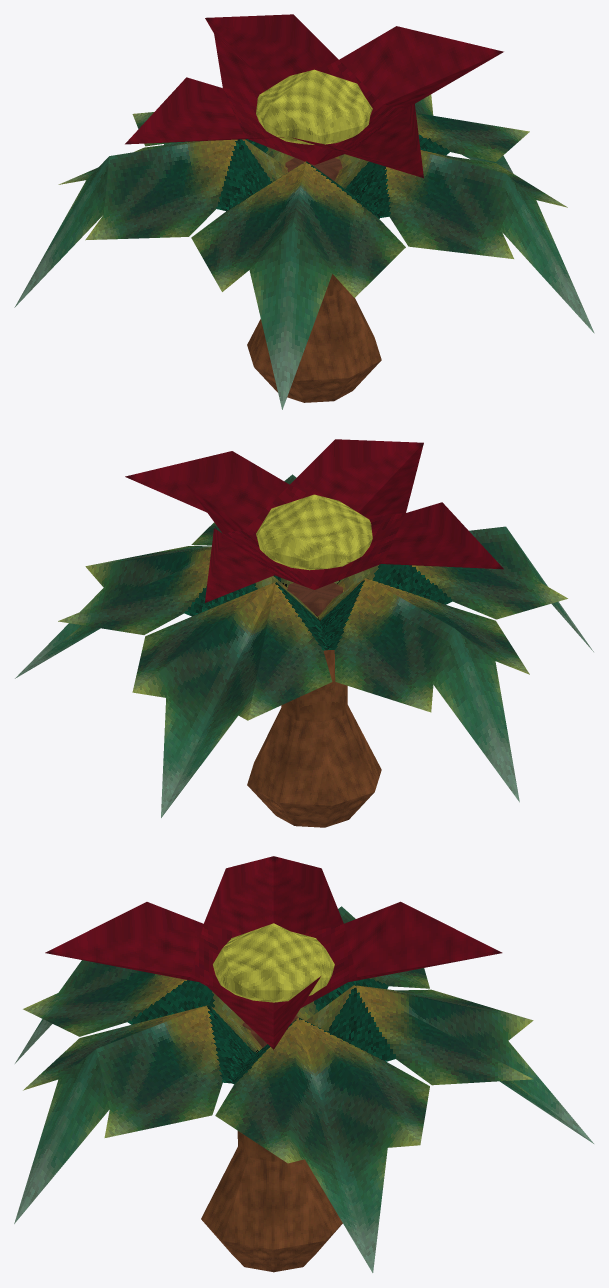
Rendered from flwr_04.glb.
3 renders of one model, top to bottom at view 1: azimuth 30°, elevation 25°; view 2: azimuth 150°, elevation 25°; view 3: azimuth 270°, elevation 25°, orthographic. The views are drawn at different scales.
Parts seen in each view (by area): view 1: FLWR_04-no-col; view 2: FLWR_04-no-col; view 3: FLWR_04-no-col.
Part boxes in pixels (left/top/right/bottom): FLWR_04-no-col: left=14, top=14, right=594, bottom=409; FLWR_04-no-col: left=15, top=439, right=593, bottom=827; FLWR_04-no-col: left=14, top=856, right=593, bottom=1272.
Size of the model in its own units: 3.36 by 2.02 by 3.19.
Materials: 1 (1 with a texture image).
